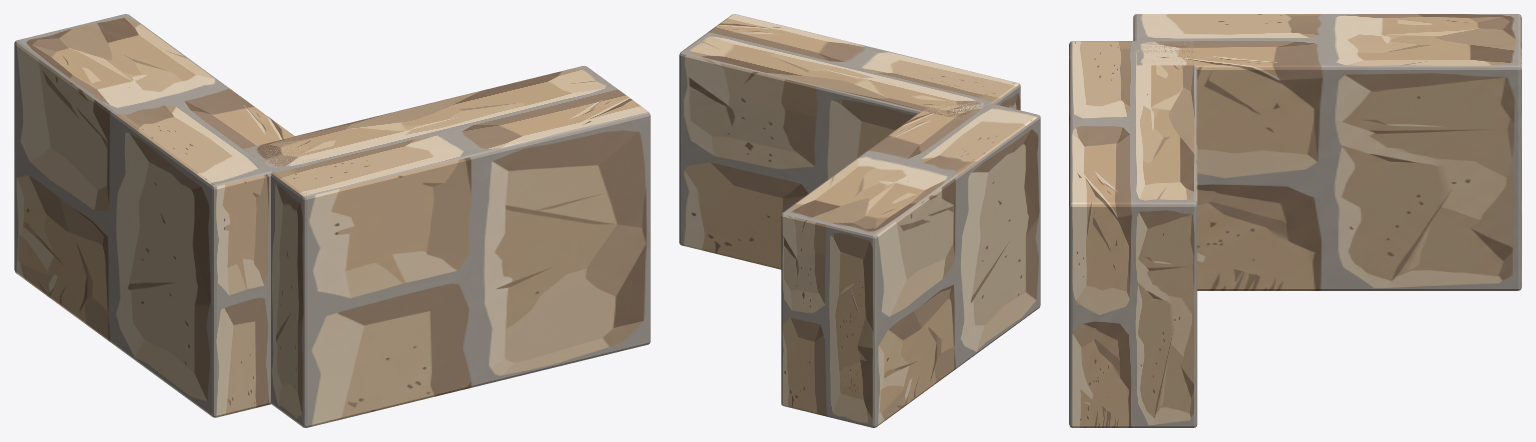
Rendered from parapet_combat_corner_inner_LOD2.glb.
3 renders of one model, left to right at view 1: azimuth 30°, elevation 25°; view 2: azimuth 150°, elevation 25°; view 3: azimuth 270°, elevation 25°, orthographic. The views are drawn at different scales.
Parts seen in each view (by area): view 1: LOD2_XWall, LOD2_YWall; view 2: LOD2_YWall, LOD2_XWall; view 3: LOD2_YWall, LOD2_XWall.
Boxes of the visible parts, <box> form: LOD2_XWall: <box>243,66,650,427</box>; LOD2_YWall: <box>14,14,317,417</box>; LOD2_YWall: <box>781,100,1040,427</box>; LOD2_XWall: <box>679,14,1020,269</box>; LOD2_YWall: <box>1133,14,1521,290</box>; LOD2_XWall: <box>1069,41,1197,427</box>.
Bounding box in the file's own units: 2.33 × 1.28 × 2.33.
1 material, 1 textured.
